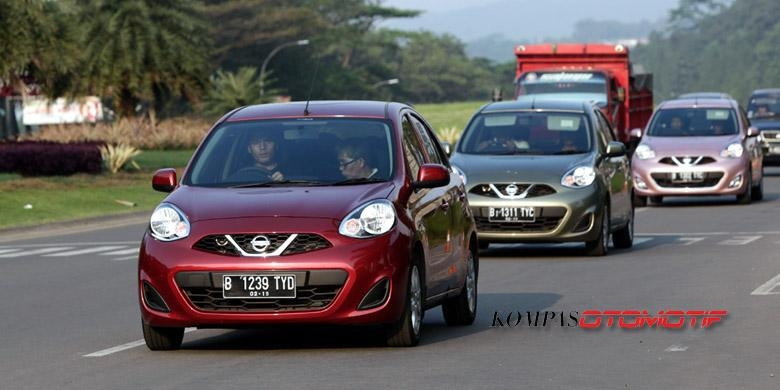plate: (223, 275, 294, 299), (488, 206, 534, 223), (671, 171, 705, 180)
